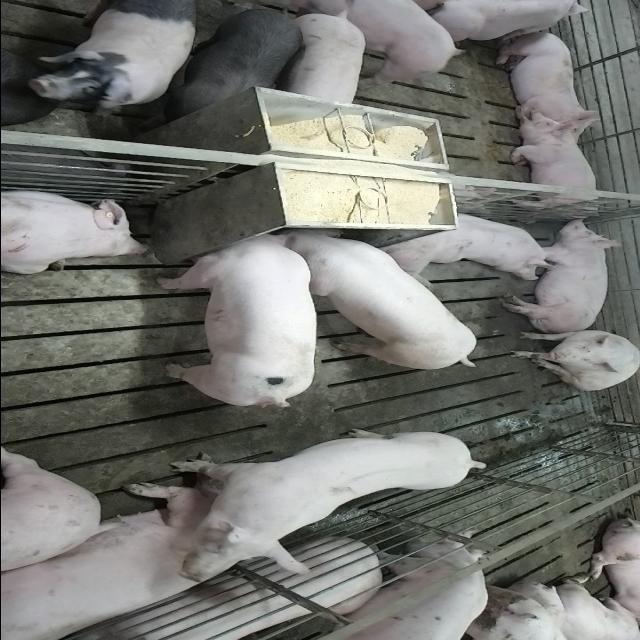Feeding: (274, 228, 480, 375), (154, 231, 318, 413)
Lateral_lying: (499, 216, 625, 334)
Sitting: (505, 328, 639, 391)
Standing: (151, 428, 481, 584), (291, 540, 484, 640), (34, 3, 201, 118), (156, 2, 303, 124), (297, 0, 463, 82), (282, 10, 364, 108)
Sternal_lying: (6, 490, 270, 640), (0, 188, 152, 275), (381, 208, 568, 276), (490, 28, 599, 132), (504, 114, 604, 217)
